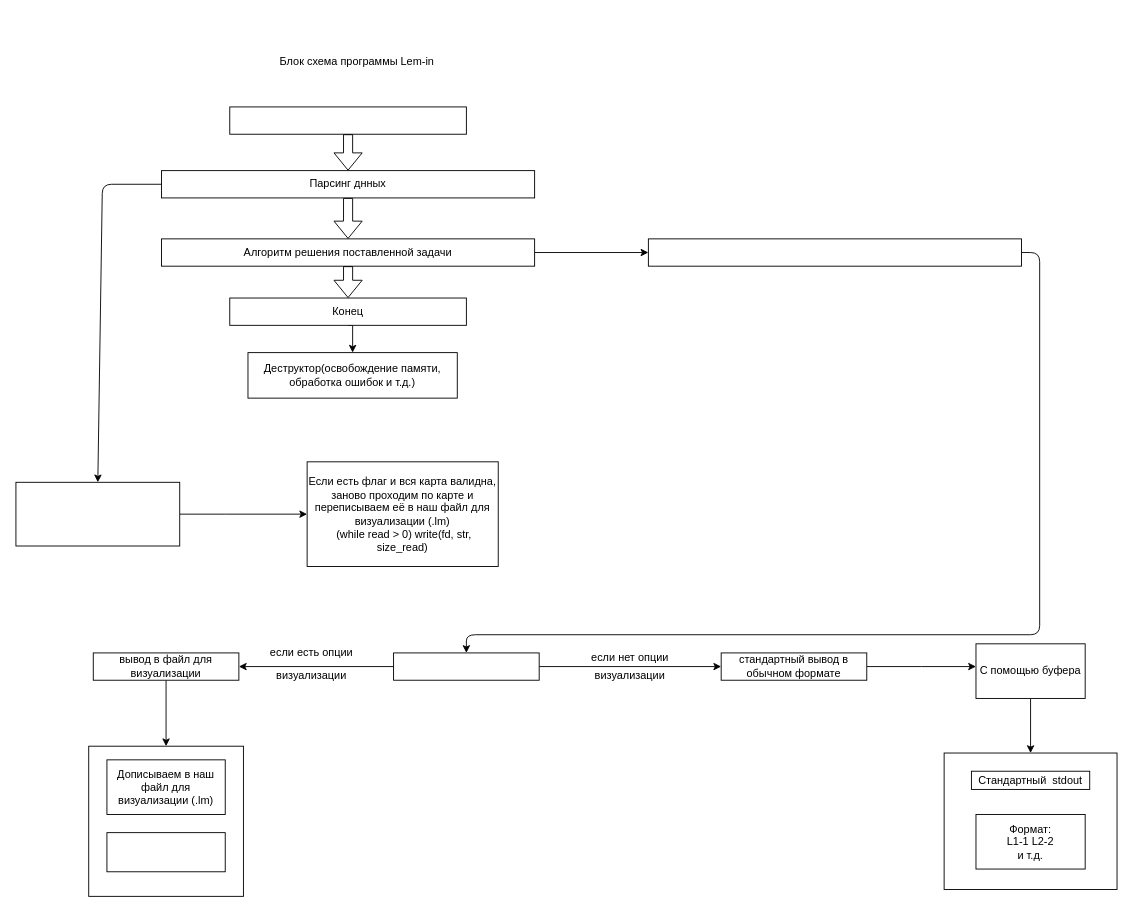
The diagram is 1133 pixels wide and 912 high, and some of its shapes have lost their labels. The box of each missing label's shape, as (x1, y1, x2, y2) in pixels:
Вывод даннх: (647, 238, 1021, 266)
Если строка валида, то записываем данные в структуру графа: (15, 481, 180, 546)
начало: (229, 106, 466, 134)
определить способ вывода данных: (393, 652, 539, 680)
Формат: Coming soon: (106, 832, 225, 872)
